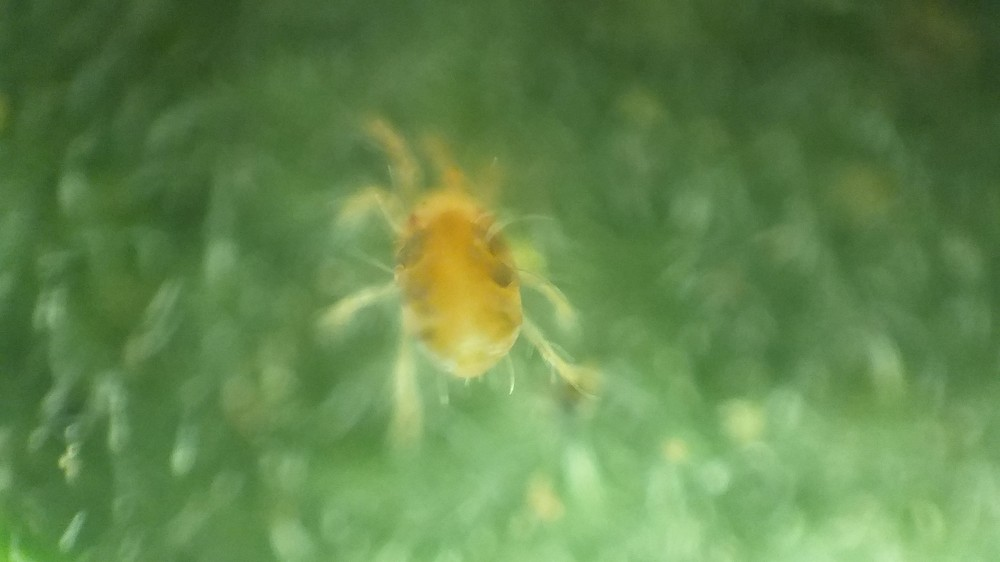Aracnido Rojo: (311, 105, 652, 458)
